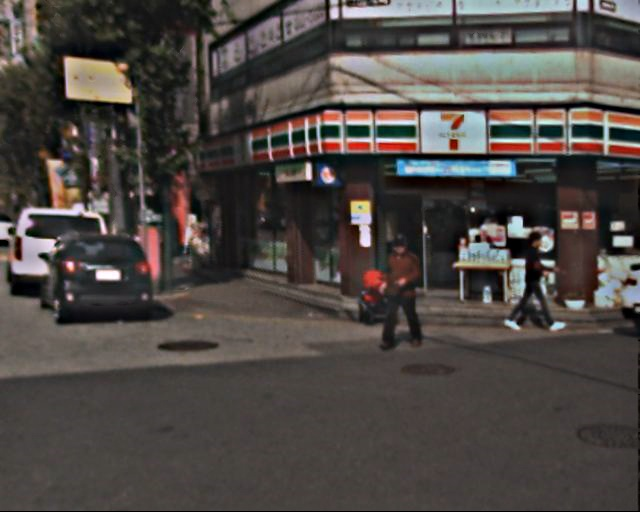person: (376, 233, 436, 348), (513, 234, 561, 337)
